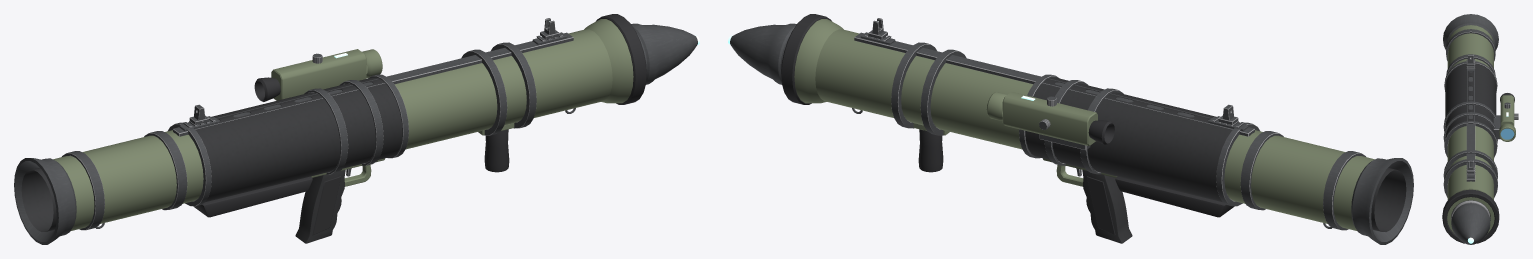
Rendered from w_rocket.glb.
The picture shows the model from 3 angles, left to right: view 1: azimuth 30°, elevation 25°; view 2: azimuth 150°, elevation 25°; view 3: azimuth 270°, elevation 25°; orthographic projection. The views are drawn at different scales.
Visible parts, largest first — view 1: W_rocket; view 2: W_rocket; view 3: W_rocket.
Boxes of the visible parts, x1,y1,x2,y2 form: W_rocket: (14,14,699,244); W_rocket: (728,14,1413,244); W_rocket: (1442,14,1518,244).
Bounding box in the file's own units: 1.13 × 0.2586 × 0.179.
Materials: 7 (3 with a texture image).
